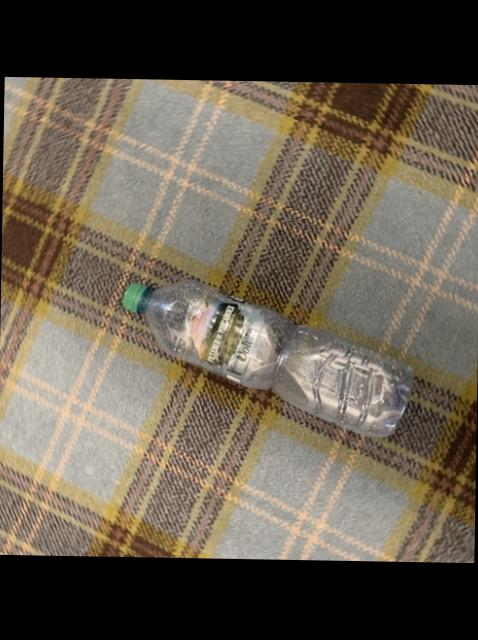plastic: (121, 282, 409, 438)
